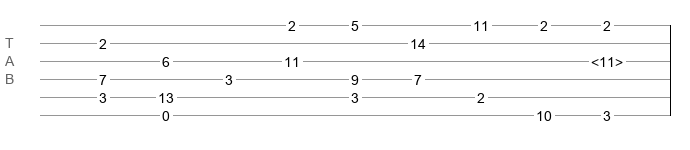0: (162, 108, 170, 118)
10: (536, 108, 552, 118)
11: (284, 54, 300, 64), (473, 18, 489, 28)
13: (158, 90, 174, 100)
14: (410, 36, 426, 46)
2: (99, 36, 107, 46), (288, 18, 296, 28), (477, 90, 485, 100), (540, 18, 548, 28), (603, 18, 611, 28)
3: (99, 90, 107, 100), (225, 72, 233, 82), (351, 90, 359, 100), (603, 108, 611, 118)
5: (351, 18, 359, 28)
6: (162, 54, 170, 64)
7: (99, 72, 107, 82), (414, 72, 422, 82)
9: (351, 72, 359, 82)
harmonic: (591, 54, 623, 64)
